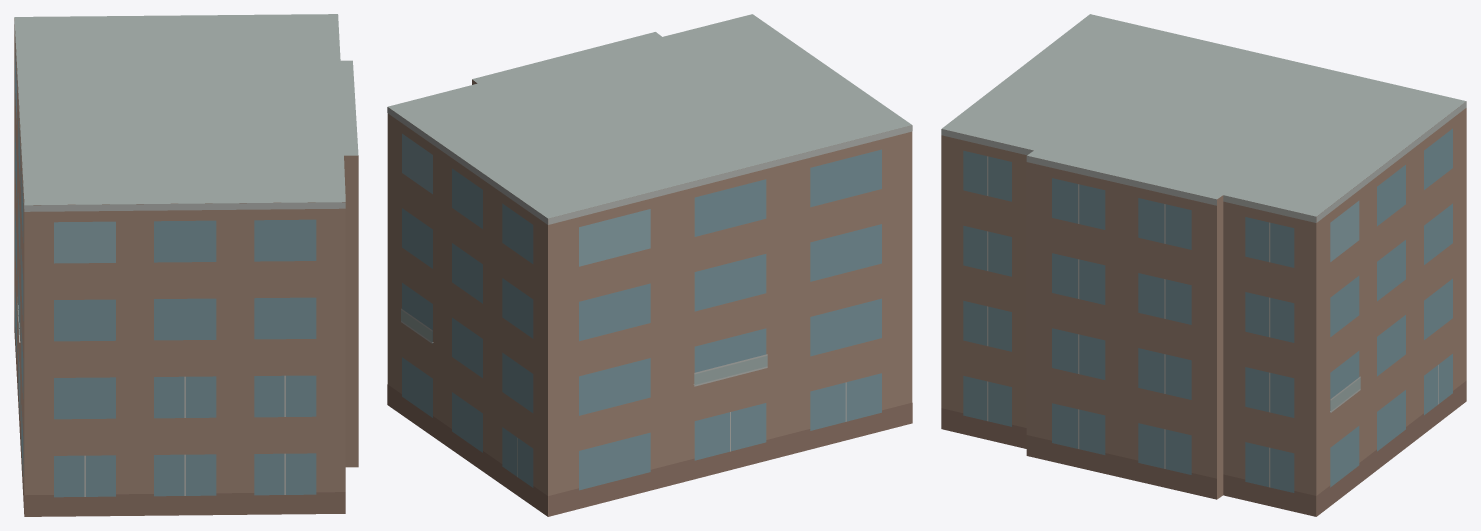
File: survey-upis-33015896.glb
3 views of the same model, side by side, from view 1: azimuth 30°, elevation 25°; view 2: azimuth 150°, elevation 25°; view 3: azimuth 270°, elevation 25° (orthographic). The views are drawn at different scales.
Parts seen in each view (by area): view 1: survey-upis-33015896.tmp; view 2: survey-upis-33015896.tmp; view 3: survey-upis-33015896.tmp.
Boxes of the visible parts, left/top/right/bottom form: survey-upis-33015896.tmp: left=14, top=14, right=358, bottom=516; survey-upis-33015896.tmp: left=387, top=14, right=912, bottom=516; survey-upis-33015896.tmp: left=941, top=14, right=1466, bottom=516.
Size of the model in its own units: 16.51 by 11.4 by 18.08.
